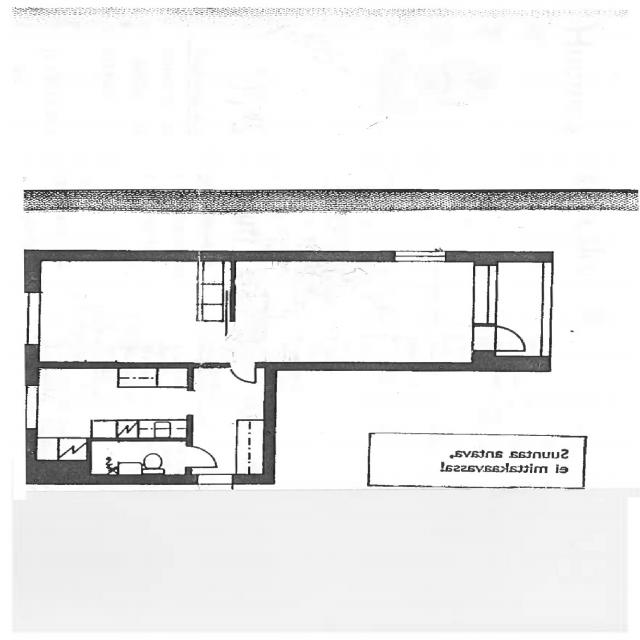door: (472, 326, 530, 350), (198, 474, 234, 509), (188, 446, 222, 466), (237, 362, 259, 383)
